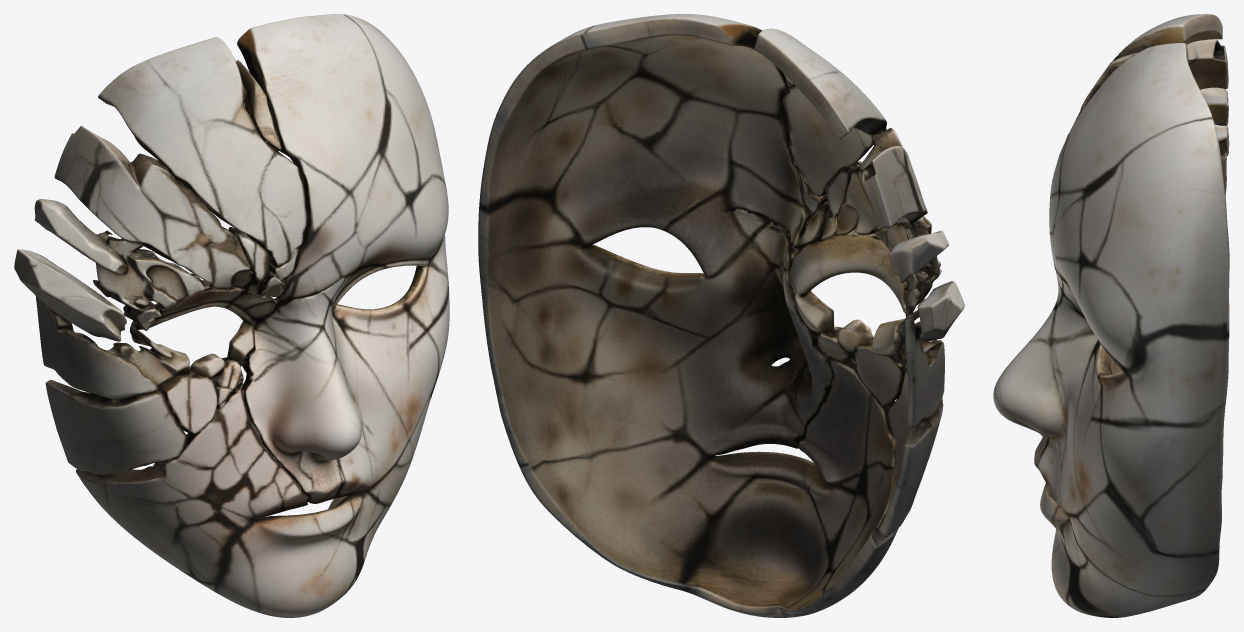
The model's file is SHATTERED.glb.
The picture shows the model from 3 angles, left to right: view 1: azimuth 30°, elevation 25°; view 2: azimuth 150°, elevation 25°; view 3: azimuth 270°, elevation 25°; orthographic projection. The views are drawn at different scales.
Bounding box in the file's own units: 1.48 × 1.9 × 0.7212.
1 material, 1 textured.
